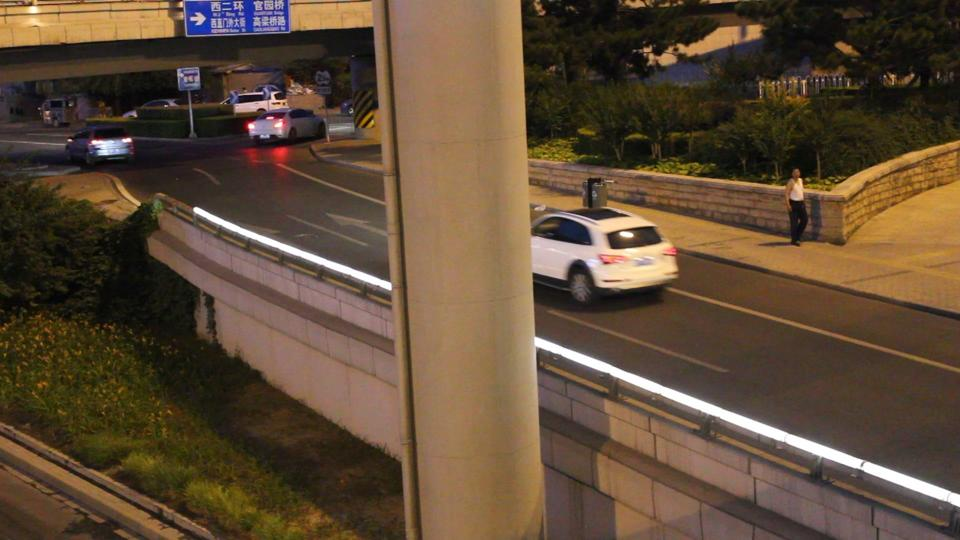car: (531, 203, 683, 305), (245, 106, 328, 145), (67, 121, 137, 166), (222, 90, 290, 116)
person: (786, 167, 813, 247)
sign: (176, 0, 294, 42), (173, 66, 202, 92)
